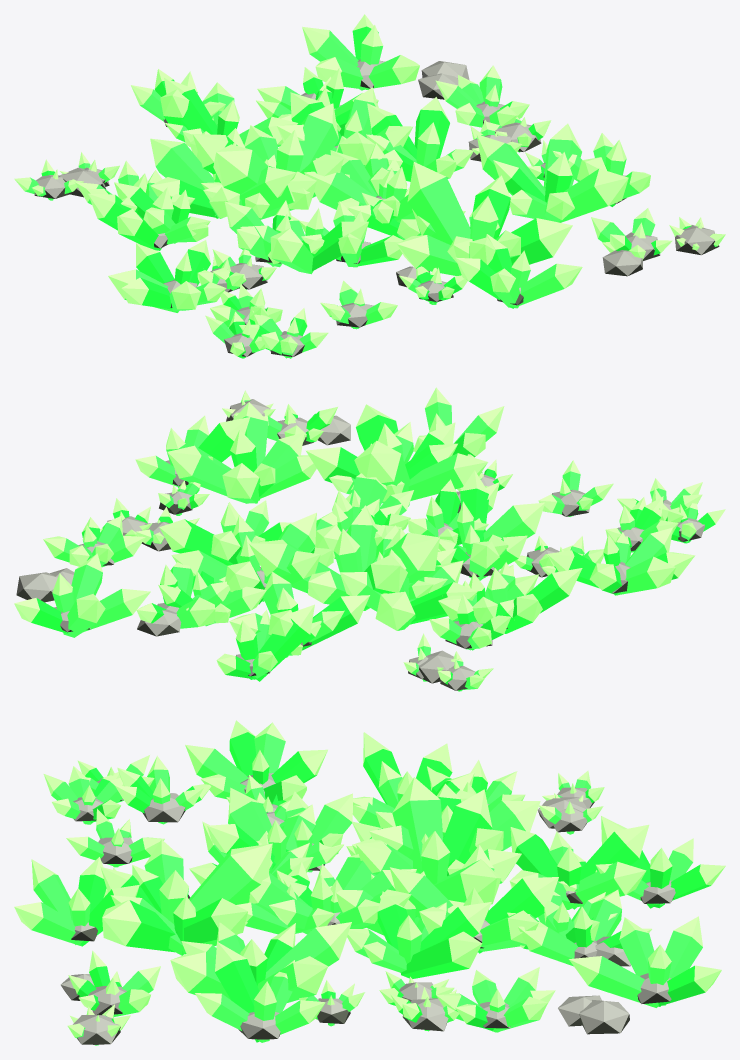
File: TIB.glb
The picture shows the model from 3 angles, top to bottom: view 1: azimuth 30°, elevation 25°; view 2: azimuth 150°, elevation 25°; view 3: azimuth 270°, elevation 25°; orthographic projection. The views are drawn at different scales.
Visible parts, largest first — view 1: Stage3CCrystals, Stage3BCrystals, Stage3ACrystals, Stage2ASeeds, Stage2CSeeds, Stage3CSeeds, Stage2BSeeds, Stage3BSeeds, Stage3ASeeds, Stage1ASeeds; view 2: Stage3CCrystals, Stage3BCrystals, Stage3ACrystals, Stage2ASeeds, Stage3CSeeds, Stage3ASeeds, Stage2CSeeds, Stage1ASeeds, Stage2BSeeds; view 3: Stage3CCrystals, Stage3BCrystals, Stage3ACrystals, Stage2ASeeds, Stage2BSeeds, Stage1ASeeds, Stage3CSeeds, Stage1BSeeds, Stage3ASeeds, Stage2CSeeds, Stage3BSeeds.
Part boxes in pixels (box(x1,y1,x2,y2)): Stage3CCrystals: box(14, 77, 628, 358); Stage3BCrystals: box(60, 65, 672, 358); Stage3ACrystals: box(75, 14, 725, 329); Stage2ASeeds: box(230, 122, 719, 327); Stage2CSeeds: box(34, 135, 511, 356); Stage3CSeeds: box(421, 61, 642, 276); Stage2BSeeds: box(84, 101, 660, 356); Stage3BSeeds: box(396, 73, 458, 287); Stage3ASeeds: box(59, 93, 316, 197); Stage1ASeeds: box(163, 59, 385, 324); Stage3CCrystals: box(136, 402, 725, 691); Stage3BCrystals: box(43, 387, 702, 681); Stage3ACrystals: box(14, 390, 678, 681); Stage2ASeeds: box(107, 399, 589, 577); Stage3CSeeds: box(16, 415, 350, 602); Stage3ASeeds: box(137, 608, 454, 683); Stage2CSeeds: box(141, 474, 704, 690); Stage1ASeeds: box(54, 523, 644, 676); Stage2BSeeds: box(78, 417, 671, 679); Stage3CCrystals: box(77, 720, 617, 1005); Stage3BCrystals: box(14, 761, 651, 1042); Stage3ACrystals: box(66, 756, 725, 1045); Stage2ASeeds: box(73, 812, 448, 1044); Stage2BSeeds: box(73, 796, 587, 1028); Stage1ASeeds: box(142, 793, 675, 1003); Stage3CSeeds: box(60, 974, 629, 1034); Stage1BSeeds: box(71, 843, 597, 1039); Stage3ASeeds: box(538, 797, 630, 966); Stage2CSeeds: box(96, 777, 594, 1001); Stage3BSeeds: box(188, 895, 601, 1026).
Bounding box in the file's own units: 1.06 × 0.1724 × 1.12.
